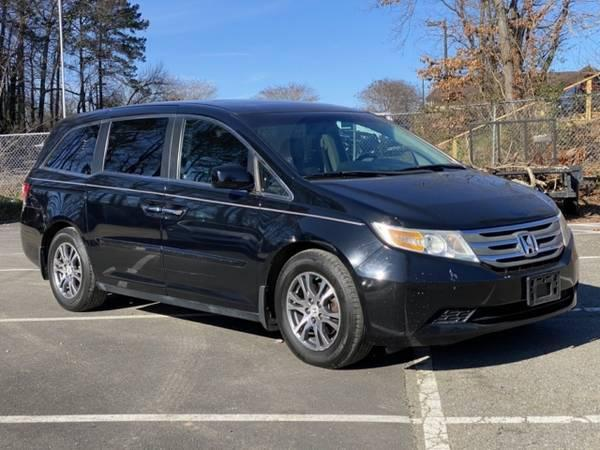Front_Bumper: (354, 234, 581, 349)
Front_Fender: (257, 171, 384, 316)
Front_Left_Door: (22, 117, 108, 233)
Front_Right_Door: (163, 177, 262, 321)
Front_Right_Window: (172, 117, 268, 197)
Front_Windshield: (239, 115, 470, 182)
Grille: (464, 215, 569, 270)
Hood: (302, 169, 559, 229)
Rear_Bumper: (22, 215, 44, 269)
Rear_Right_Door: (86, 173, 169, 299)
Rear_Right_Window: (96, 114, 180, 179)
Right_Headlight: (372, 223, 483, 264)
Roof: (32, 96, 366, 183)
Wheel: (272, 246, 367, 369), (46, 228, 92, 311)
